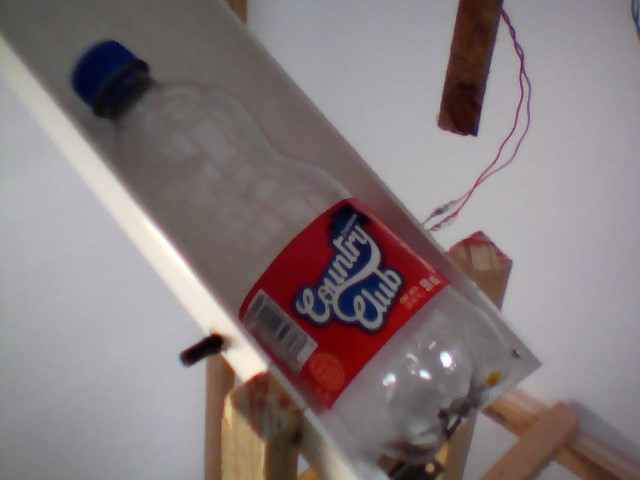plastico: (63, 37, 511, 480)
